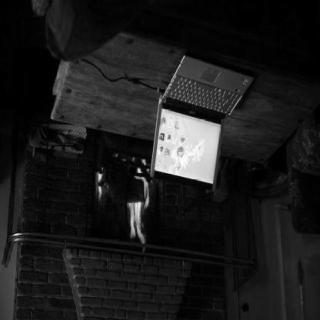Fire: (91, 150, 156, 250)
